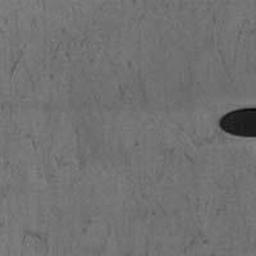Punching: (219, 106, 256, 137)
